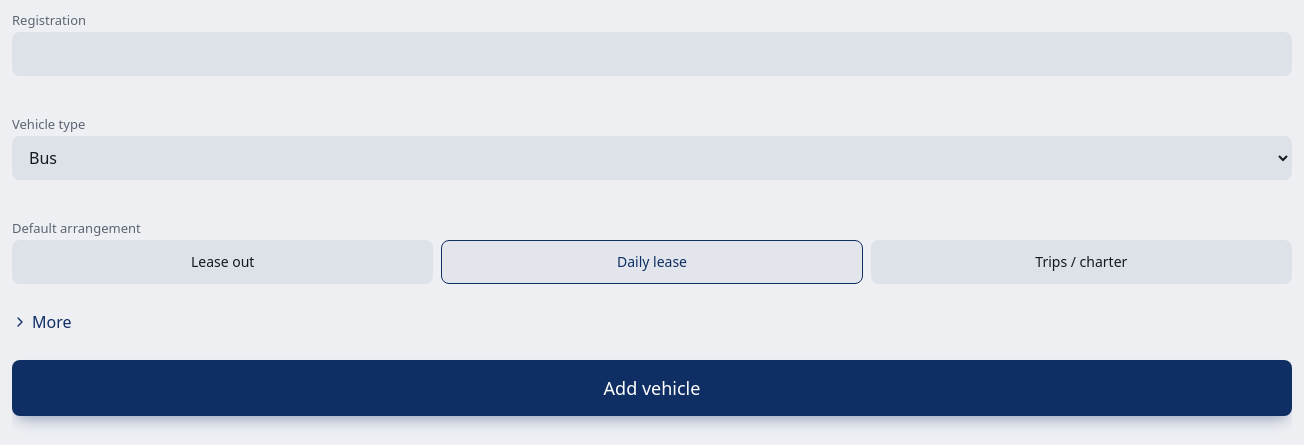
Test: GAP-76: blank registration shows field-specific copy, never the generic zod fallback
Click the button "Add vehicle" at (652, 388), box [12, 360, 1292, 416]
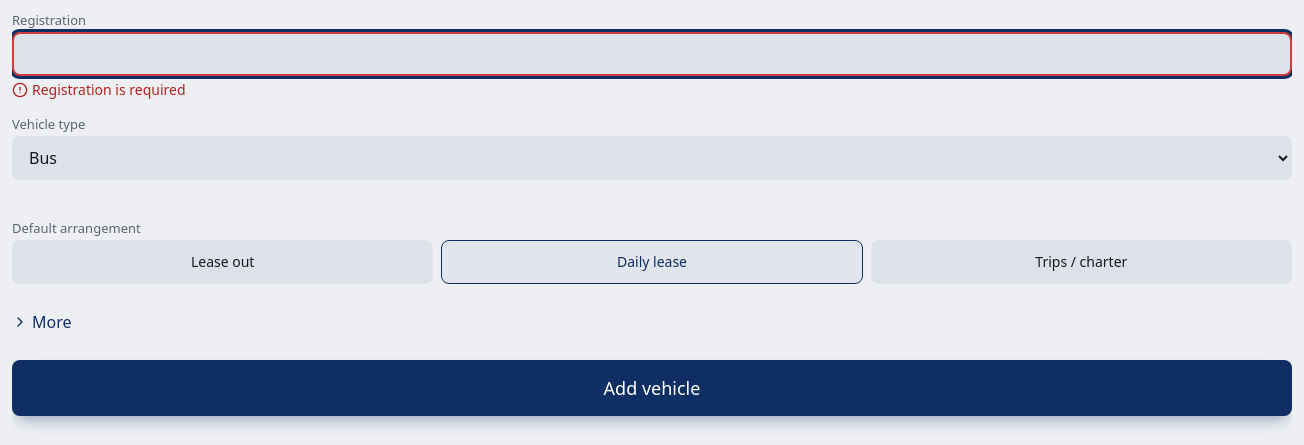
Result: the text "Registration is required" is shown at [32, 80, 186, 100]
